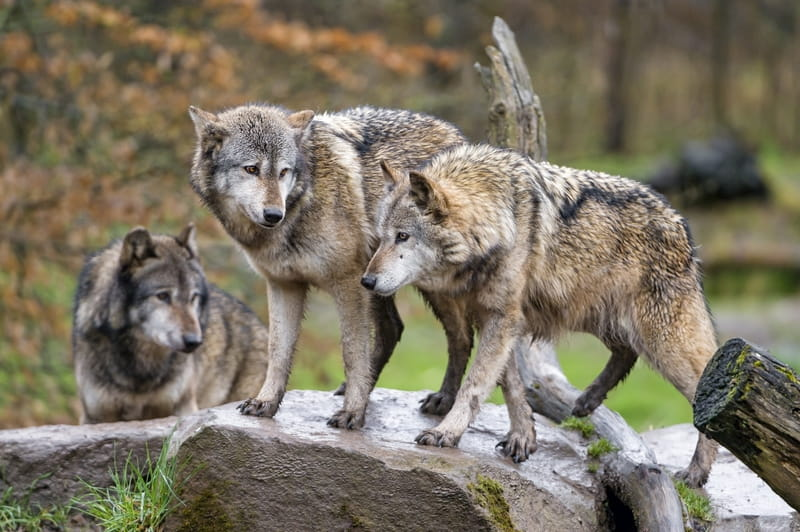wolf: (167, 86, 592, 419), (364, 117, 740, 491), (49, 215, 337, 434)
